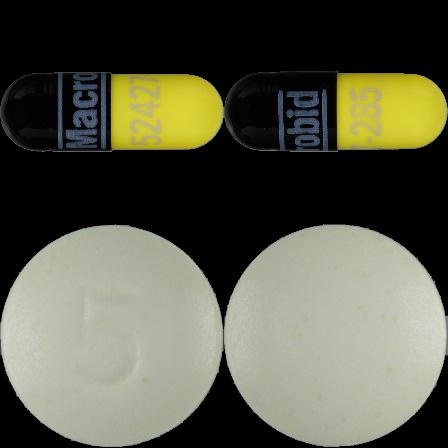10544-086: (0, 0, 224, 224)
